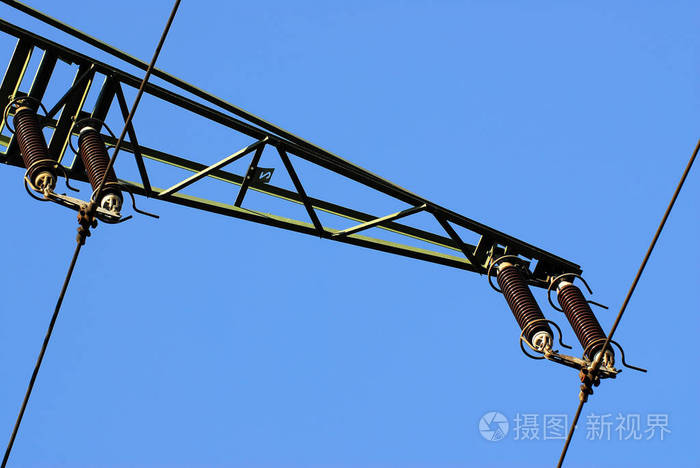insulator: (495, 263, 553, 345), (556, 283, 613, 365), (11, 109, 52, 178), (79, 129, 116, 191)
